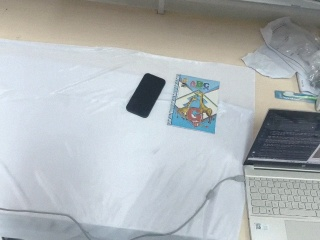book: (164, 72, 223, 136)
phone: (126, 73, 166, 118)
